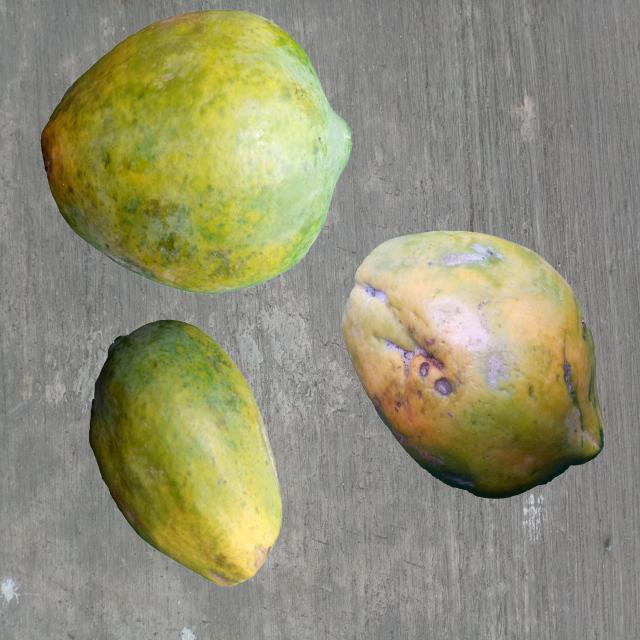Pepaya rippen: (31, 16, 360, 294), (340, 223, 610, 512), (80, 325, 287, 597)
